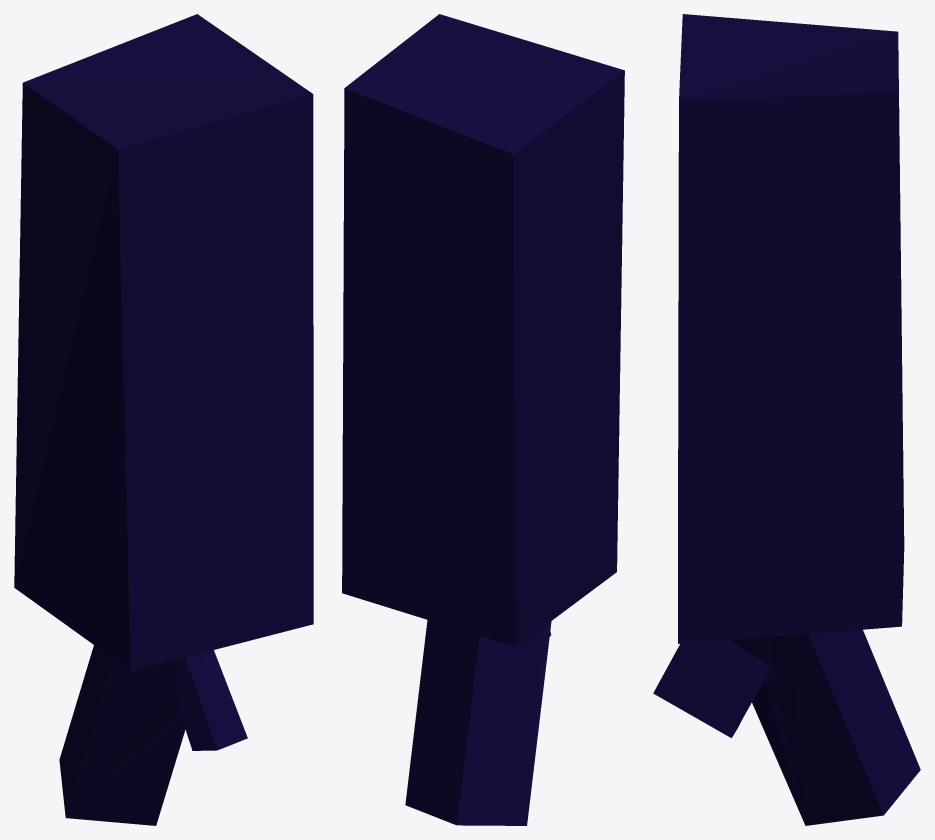
3 views of the same model, side by side, from view 1: azimuth 30°, elevation 25°; view 2: azimuth 150°, elevation 25°; view 3: azimuth 270°, elevation 25° (orthographic). The views are drawn at different scales.
Parts seen in each view (by area): view 1: 624_Cube.2508; view 2: 624_Cube.2508; view 3: 624_Cube.2508.
Part boxes in pixels (box(x1,y1,x2,y2)): 624_Cube.2508: box(14, 14, 313, 825); 624_Cube.2508: box(342, 14, 624, 825); 624_Cube.2508: box(653, 14, 920, 825).
Bounding box in the file's own units: 4.71 × 17.6 × 5.5.
